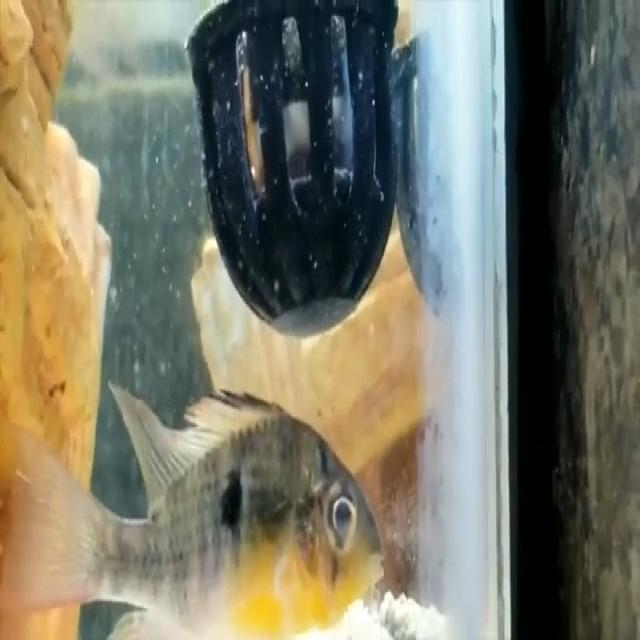fish: (9, 371, 389, 640)
